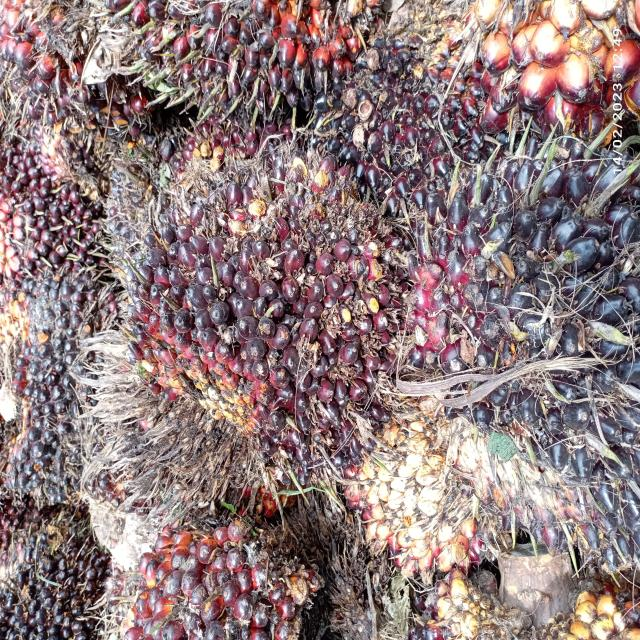fraksi 00: (424, 131, 636, 546)
fraksi 1: (98, 110, 391, 530)
